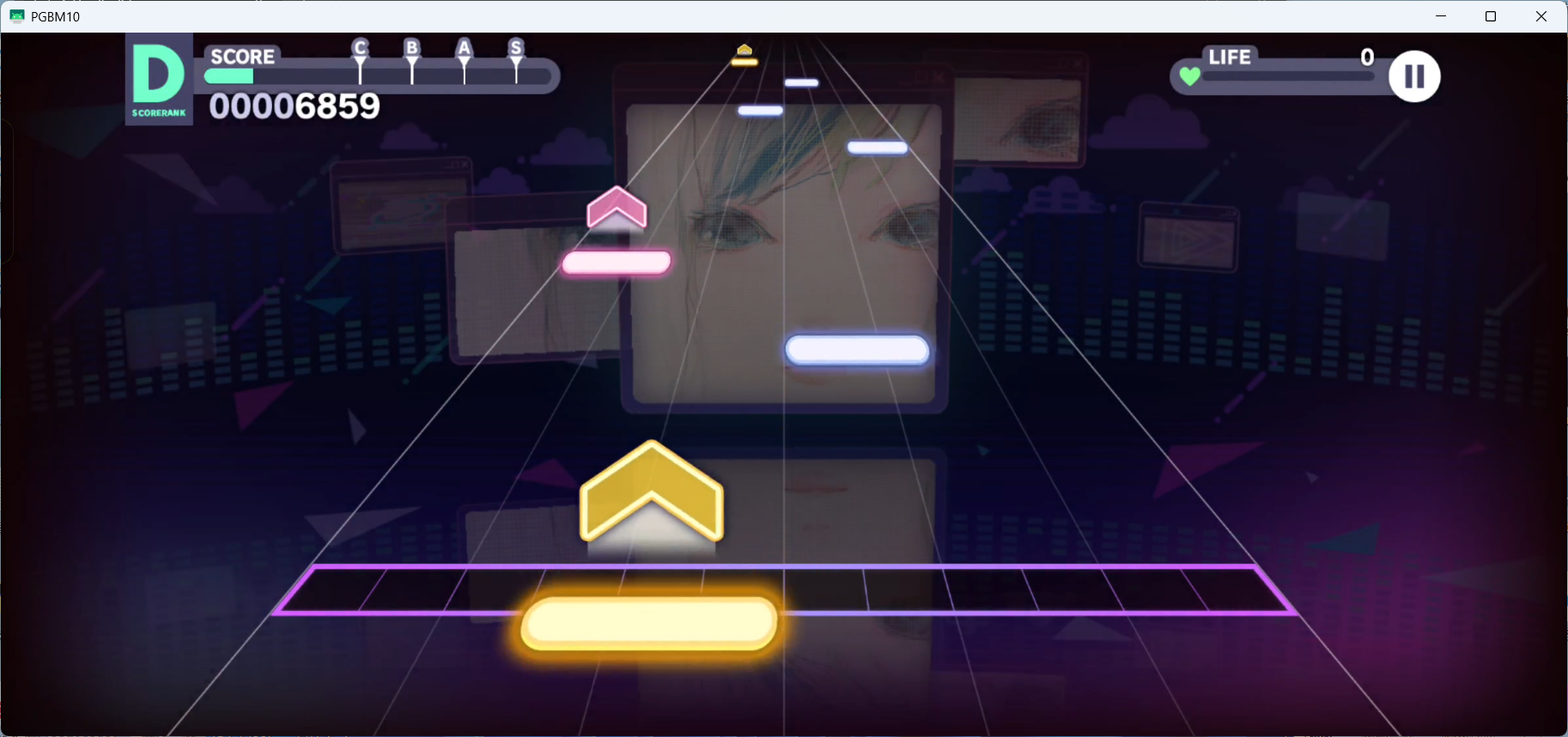flick: (579, 433, 726, 565), (586, 187, 648, 234), (737, 43, 751, 55)
tap: (520, 596, 776, 649), (784, 335, 931, 367), (562, 251, 672, 275), (848, 141, 907, 154), (738, 106, 782, 115), (784, 78, 817, 87), (731, 58, 757, 65)
